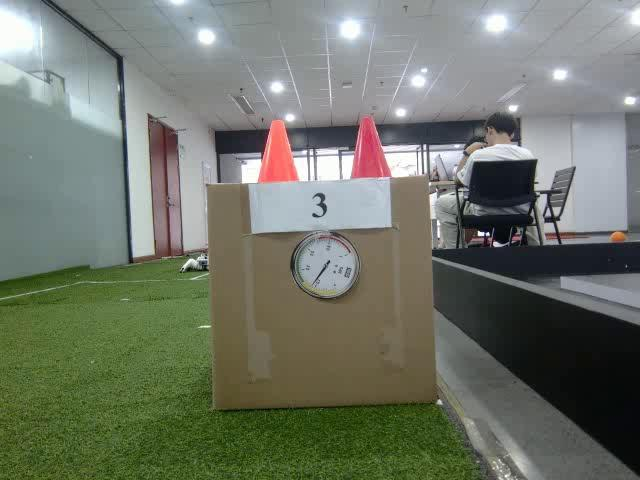3: (307, 192, 329, 218)
Dashboard: (289, 231, 361, 301)
orange_barrel: (254, 119, 302, 185)
red_barrel: (347, 115, 395, 180)
ssi: (344, 266, 352, 278)
